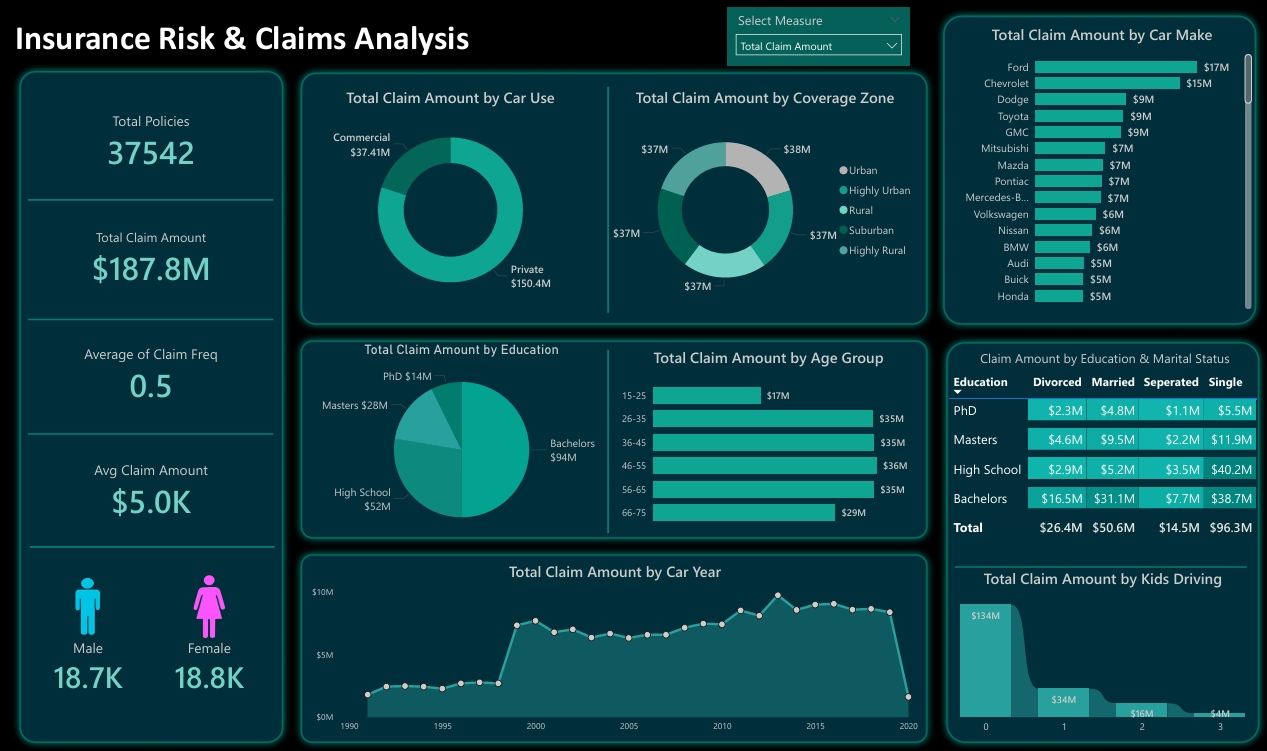

What the dashboard file says about the page in this screenshot:
{"tool":"powerbi","page":{"name":"Insurance ","canvas":[1600,950],"ordinal":0},"visuals":[{"type":"textbox","box":[35.7,14.7,604.4,65.1],"z":0},{"type":"shape","box":[14.9,80.9,353.2,868.1],"z":1000},{"type":"cardVisual","fields":{"Data":["insurance_data_car.Total Policies","insurance_data_car.Total Claim Amount","Avg(insurance_data_car.Claim Freq)","insurance_data_car.Avg Claim Amount"]},"box":[55.3,110.6,272.3,580.9],"z":2000},{"type":"cardVisual","fields":{"Data":["insurance_data_car.Male Count","insurance_data_car.Female Count"]},"box":[44.7,787.2,287.2,110.6],"z":3000},{"type":"image","box":[191.5,717,146.8,100],"z":4000},{"type":"image","box":[44.7,717,134,100],"z":5000},{"type":"slicer","fields":{"Values":["Select Measure.Select Measure"]},"box":[902.5,10.5,262.3,75.6],"z":6000},{"type":"shape","box":[370.2,83,810.6,338.3],"z":7000},{"type":"donutChart","fields":{"Y":["insurance_data_car.Total Policies"],"Category":["insurance_data_car.Car Use"]},"box":[389.4,110.6,359.6,285.1],"z":8000},{"type":"shape","box":[1180.9,10.6,414.9,410.6],"z":9000},{"type":"shape","box":[370.2,421.3,810.6,270.2],"z":11000},{"type":"donutChart","fields":{"Y":["insurance_data_car.Total Policies"],"Category":["insurance_data_car.Coverage Zone"]},"box":[768.1,110.6,395.7,285.1],"z":12000},{"type":"shape","box":[370.2,691.5,810.6,257.4],"z":13000},{"type":"lineChart","fields":{"Y":["insurance_data_car.Total Policies"],"Category":["insurance_data_car.Car Year"]},"box":[389.4,708.5,774.5,225.5],"z":14000},{"type":"barChart","fields":{"Category":["insurance_data_car.Age Group"],"Y":["insurance_data_car.Total Policies"]},"box":[776.6,440.4,387.2,236.2],"z":15000},{"type":"shape","box":[1185.1,423.4,414.9,525.5],"z":16000},{"type":"ribbonChart","fields":{"Y":["insurance_data_car.Total Policies"],"Category":["insurance_data_car.Kids Driving"]},"box":[1200,719.1,385.1,217],"z":17000},{"type":"pieChart","fields":{"Y":["insurance_data_car.Total Policies"],"Category":["insurance_data_car.Education"]},"box":[389.4,431.9,387.2,255.3],"z":18000},{"type":"pivotTable","title":"Claim Amount by Education & Marital Status","fields":{"Rows":["insurance_data_car.Education"],"Columns":["insurance_data_car.Marital Status"],"Values":["insurance_data_car.Total Claim Amount"]},"box":[1193.6,442.6,402.1,266],"z":19000},{"type":"barChart","fields":{"Category":["insurance_data_car.Car Make"],"Y":["insurance_data_car.Total Claim Amount"]},"box":[1197.9,31.9,387.2,363.8],"z":19001},{"type":"shape","box":[736.2,110.6,63.8,285.1],"z":19002},{"type":"shape","box":[736.2,442.6,63.8,231.9],"z":19003},{"type":"shape","box":[1206.4,689.4,368.1,55.3],"z":19004},{"type":"shape","box":[38.3,663.8,308.5,55.3],"z":19005},{"type":"shape","box":[36.2,521.3,308.5,55.3],"z":19006},{"type":"shape","box":[36.2,376.6,308.5,55.3],"z":19007},{"type":"shape","box":[36.2,225.5,308.5,55.3],"z":19008}]}

Visuals, with their boxes in screenshot pixels (x1, y1, x2, y2), scaled from the page's 1600x950 canvas onto the 1267x751 screenshot:
textbox: 28 12 507 63
shape: 12 64 291 750
cardVisual - insurance_data_car.Total Policies x insurance_data_car.Total Claim Amount: 44 87 259 547
cardVisual - insurance_data_car.Male Count x insurance_data_car.Female Count: 35 622 263 710
image: 152 567 268 646
image: 35 567 142 646
slicer - Select Measure.Select Measure: 715 8 922 68
shape: 293 66 935 333
donutChart - insurance_data_car.Total Policies x insurance_data_car.Car Use: 308 87 593 313
shape: 935 8 1264 333
shape: 293 333 935 547
donutChart - insurance_data_car.Total Policies x insurance_data_car.Coverage Zone: 608 87 922 313
shape: 293 547 935 750
lineChart - insurance_data_car.Total Policies x insurance_data_car.Car Year: 308 560 922 738
barChart - insurance_data_car.Age Group x insurance_data_car.Total Policies: 615 348 922 535
shape: 938 335 1266 750
ribbonChart - insurance_data_car.Total Policies x insurance_data_car.Kids Driving: 950 568 1255 740
pieChart - insurance_data_car.Total Policies x insurance_data_car.Education: 308 341 615 543
"Claim Amount by Education & Marital Status" pivotTable: 945 350 1264 560
barChart - insurance_data_car.Car Make x insurance_data_car.Total Claim Amount: 949 25 1255 313
shape: 583 87 634 313
shape: 583 350 634 533
shape: 955 545 1247 589
shape: 30 525 275 568
shape: 29 412 273 456
shape: 29 298 273 341
shape: 29 178 273 222
